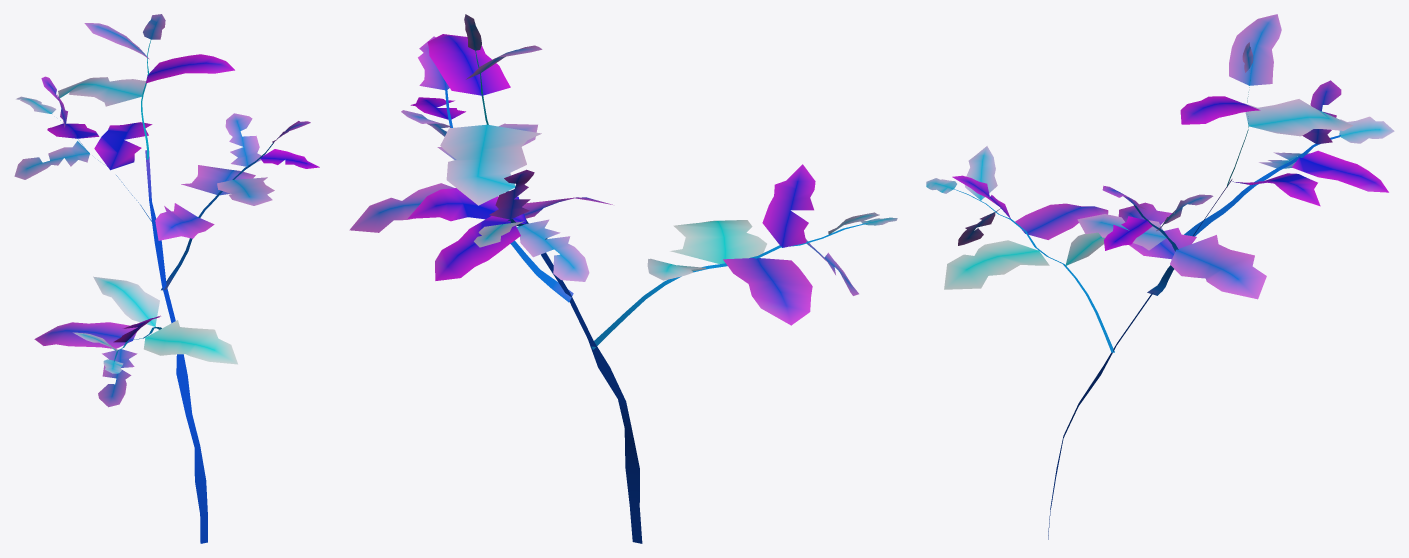
File: Black_Locust_wdvhberja_Mid_wdvhberja_VarG_LOD2.fbx
The picture shows the model from 3 angles, left to right: view 1: azimuth 30°, elevation 25°; view 2: azimuth 150°, elevation 25°; view 3: azimuth 270°, elevation 25°; orthographic projection. The views are drawn at different scales.
Visible parts, largest first — view 1: _y82a_VarG_LOD3; view 2: _y82a_VarG_LOD3; view 3: _y82a_VarG_LOD3.
Boxes of the visible parts, bbox=[...] form: _y82a_VarG_LOD3: bbox=[14, 14, 319, 543]; _y82a_VarG_LOD3: bbox=[349, 14, 897, 543]; _y82a_VarG_LOD3: bbox=[926, 14, 1394, 539].
Size of the model in its own units: 59.22 by 85.98 by 70.09.
